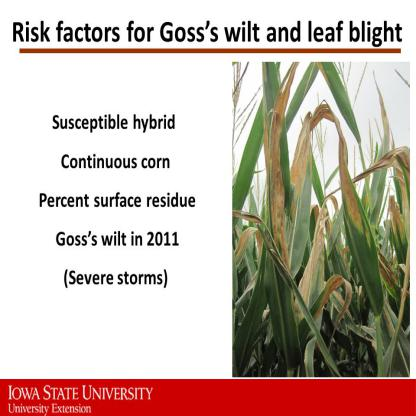corn leaf blight: (313, 101, 386, 324), (263, 63, 305, 359), (351, 146, 412, 263), (295, 203, 332, 377), (282, 107, 312, 284)
